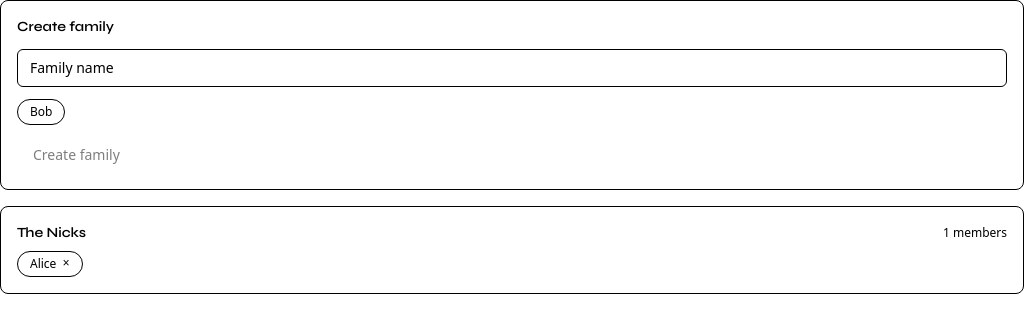
it: FamiliesTab › disables Create until name and at least one member are set
This screenshot has width=1024, height=311.
Check: the button "Create family" is disabled, box [17,137,136,173]
Type "New Fam" into the field with placeholder "Family name" at coordinates (512, 68), box [17,49,1007,87]
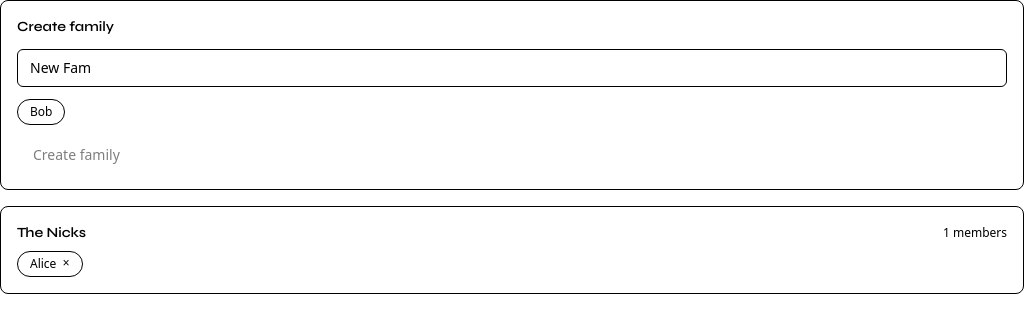
Check: the button "Create family" is disabled, box [17,137,136,173]
Click the button "Bob" at coordinates (41, 112), box [17,99,66,125]
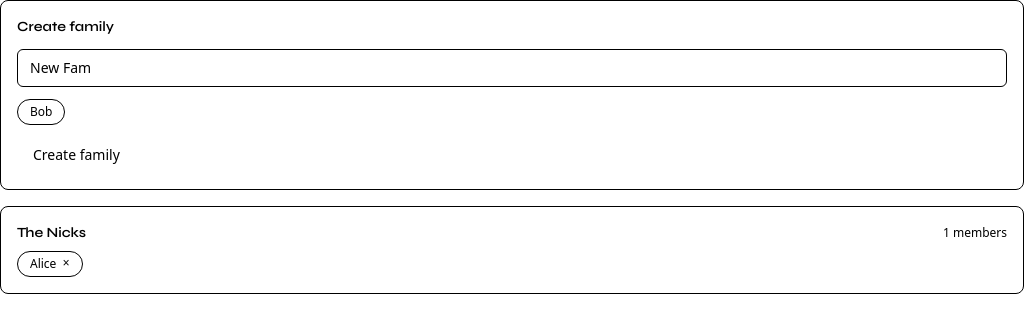
Check: the button "Create family" is enabled, box [17,137,136,173]
